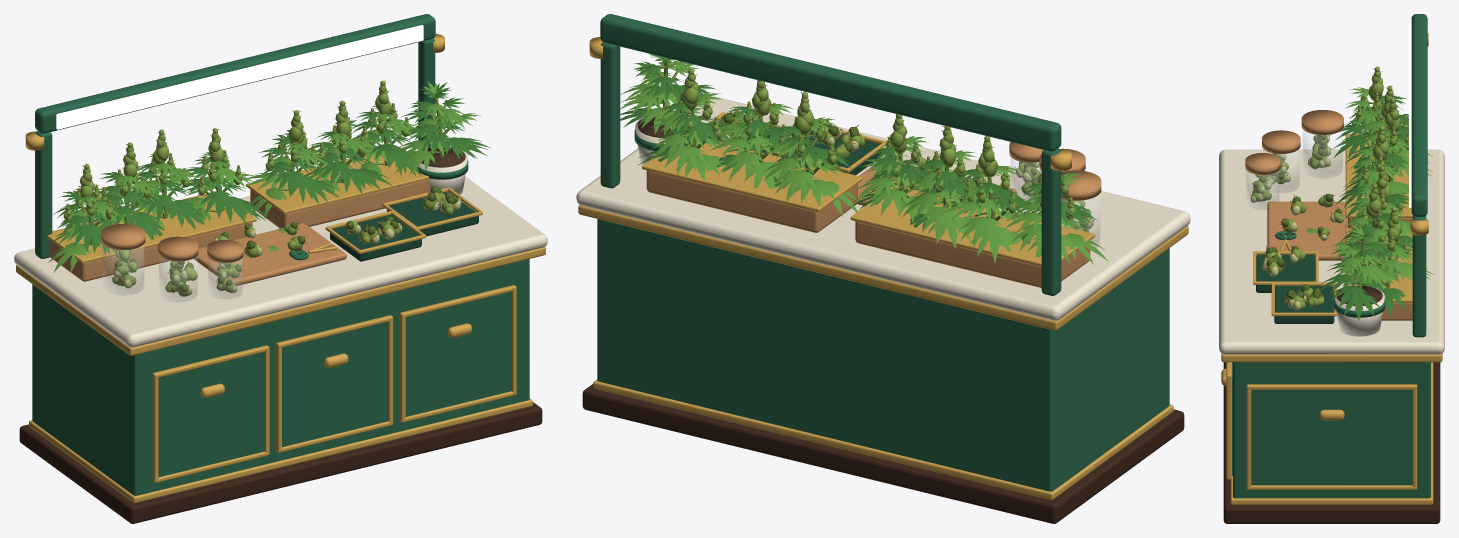
Rendered from harvest_bench.glb.
3 views of the same model, side by side, from view 1: azimuth 30°, elevation 25°; view 2: azimuth 150°, elevation 25°; view 3: azimuth 270°, elevation 25° (orthographic). The views are drawn at different scales.
Visible parts, largest first — view 1: Body, Top, Plinth, Drawer2, Drawer1, Drawer0, LightPanel, LightBar, TopBand, BaseBrass, Board, TroughRim1 (+25 smaller); view 2: Body, Top, Plinth, LightBar, TopBand, BaseBrass, Trough0, Trough1, TroughRim1, TroughRim0, Post1, Post-1 (+4 smaller); view 3: Top, EndDrawer, Body, Plinth, LightBar, Board, TopBand, BaseBrass, Jar0Glass, Post1, Tray1, Tray0 (+31 smaller).
Part boxes in pixels (x1,y1,x2,y2): Body: (32, 259, 529, 495); Top: (14, 176, 547, 347); Plinth: (19, 402, 542, 523); Drawer2: (405, 291, 511, 416); Drawer1: (282, 322, 388, 446); Drawer0: (158, 352, 264, 477); LightPanel: (56, 25, 423, 129); LightBar: (35, 14, 435, 133); TopBand: (16, 247, 545, 355); BaseBrass: (29, 398, 532, 503); Board: (193, 223, 346, 285); TroughRim1: (246, 146, 429, 214); Body: (597, 219, 1169, 491); Top: (576, 96, 1190, 320); Plinth: (582, 384, 1184, 523); LightBar: (600, 14, 1061, 151); TopBand: (578, 205, 1188, 330); BaseBrass: (593, 379, 1173, 499); Trough0: (855, 221, 1090, 287); Trough1: (646, 170, 857, 232); TroughRim1: (642, 142, 862, 211); TroughRim0: (850, 185, 1095, 266); Post1: (600, 42, 620, 188); Post-1: (1041, 148, 1061, 295); Top: (1219, 149, 1444, 354); EndDrawer: (1251, 390, 1412, 485); Body: (1233, 362, 1430, 498); Plinth: (1223, 362, 1440, 523); LightBar: (1411, 14, 1427, 216); Board: (1267, 201, 1347, 260); TopBand: (1221, 353, 1442, 362); BaseBrass: (1230, 362, 1433, 504); Jar0Glass: (1303, 129, 1342, 178); Post1: (1412, 216, 1426, 337); Tray1: (1274, 286, 1334, 323); Tray0: (1256, 254, 1315, 292).
Size of the model in its own units: 2.08 by 1.55 by 0.98.
